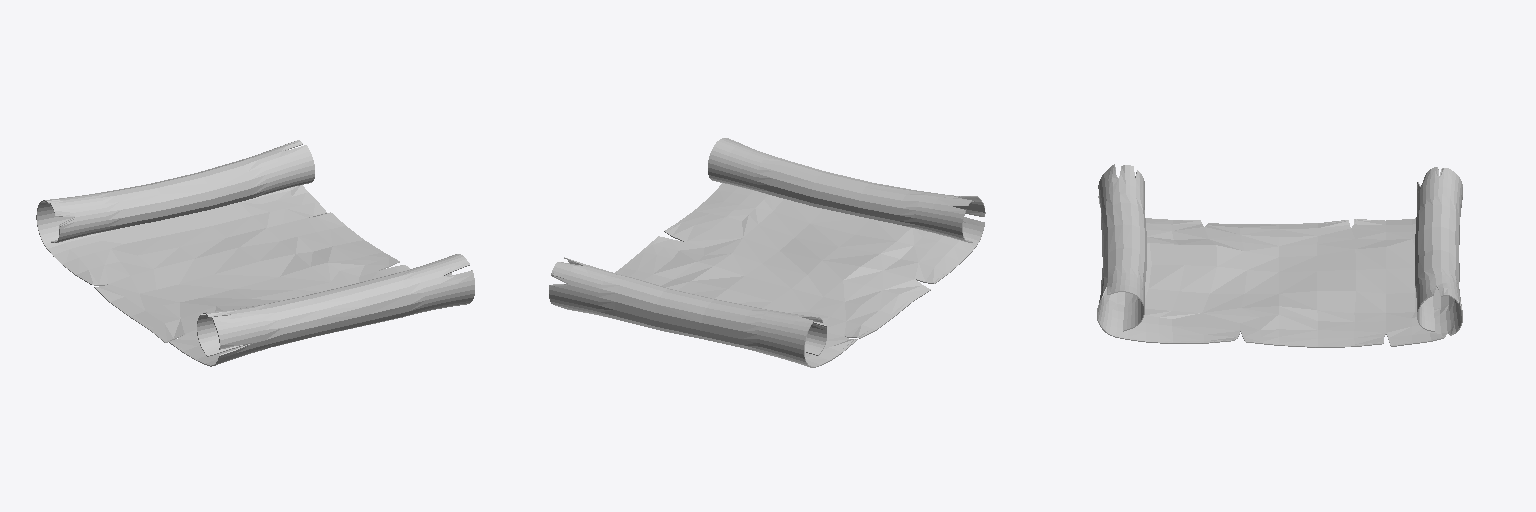
Rendered from map.obj.
The picture shows the model from 3 angles: view 1: azimuth 30°, elevation 25°; view 2: azimuth 150°, elevation 25°; view 3: azimuth 270°, elevation 25°; orthographic projection.
Parts seen in each view (by area): view 1: map; view 2: map; view 3: map.
Boxes of the visible parts, box(x1,y1,x2,y2) form: map: box(36, 140, 474, 366); map: box(549, 138, 985, 367); map: box(1097, 164, 1462, 347).
Size of the model in its own units: 1.78 by 0.4064 by 2.21.